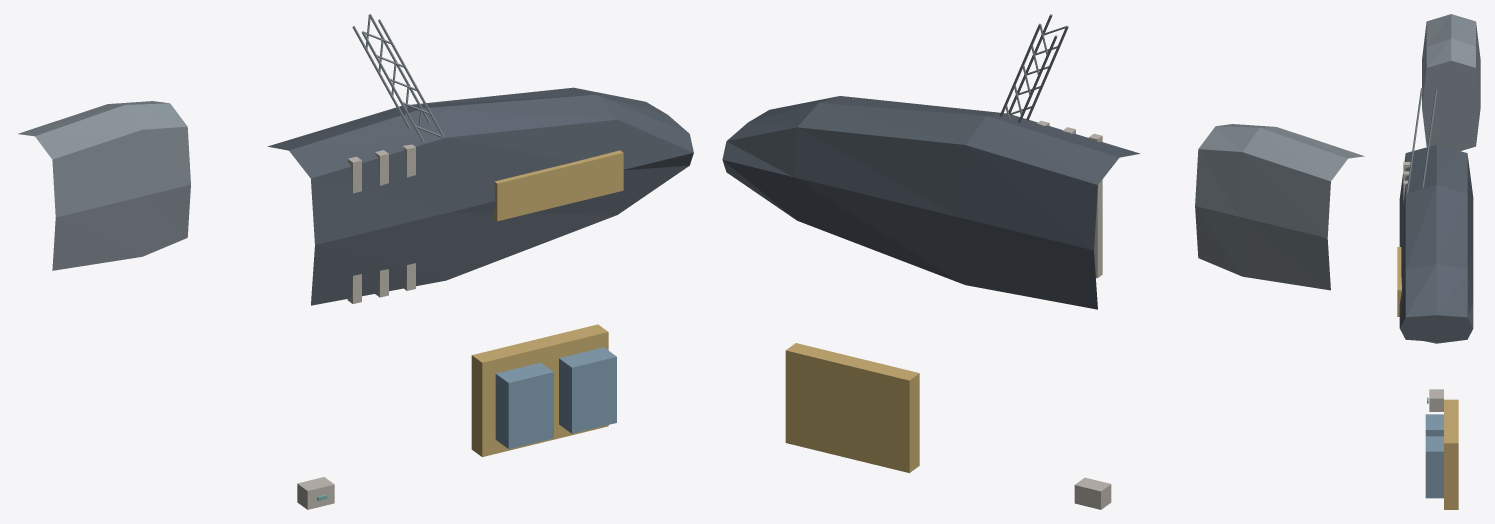
File: 18_last_shift.glb
3 renders of one model, left to right at view 1: azimuth 30°, elevation 25°; view 2: azimuth 150°, elevation 25°; view 3: azimuth 270°, elevation 25°, orthographic. The views are drawn at different scales.
Parts seen in each view (by area): view 1: HULL_001, HULL_002, part_021, part_017, part_022, part_023, part_024; view 2: HULL_001, HULL_002, part_021, part_024, part_018; view 3: HULL_001, HULL_002, part_021, part_023, part_022, part_024, part_017, part_005, part_006.
Part boxes in pixels (left/top/right/bottom): HULL_001: left=267, top=87, right=693, bottom=305; HULL_002: left=18, top=101, right=190, bottom=270; part_021: left=471, top=324, right=608, bottom=457; part_017: left=494, top=150, right=623, bottom=221; part_022: left=495, top=362, right=553, bottom=448; part_023: left=559, top=347, right=616, bottom=433; part_024: left=297, top=477, right=334, bottom=509; HULL_001: left=722, top=96, right=1140, bottom=309; HULL_002: left=1195, top=124, right=1364, bottom=290; part_021: left=785, top=343, right=919, bottom=472; part_024: left=1074, top=477, right=1111, bottom=509; part_018: left=1088, top=133, right=1102, bottom=278; HULL_001: left=1399, top=144, right=1473, bottom=343; HULL_002: left=1422, top=14, right=1480, bottom=150; part_021: left=1444, top=399, right=1458, bottom=509; part_023: left=1425, top=436, right=1443, bottom=498; part_022: left=1425, top=414, right=1443, bottom=436; part_024: left=1429, top=389, right=1443, bottom=411; part_017: left=1397, top=247, right=1401, bottom=316; part_005: left=1406, top=88, right=1422, bottom=193; part_006: left=1422, top=90, right=1437, bottom=187.
Size of the model in its own units: 69 by 50.6 by 11.35.
